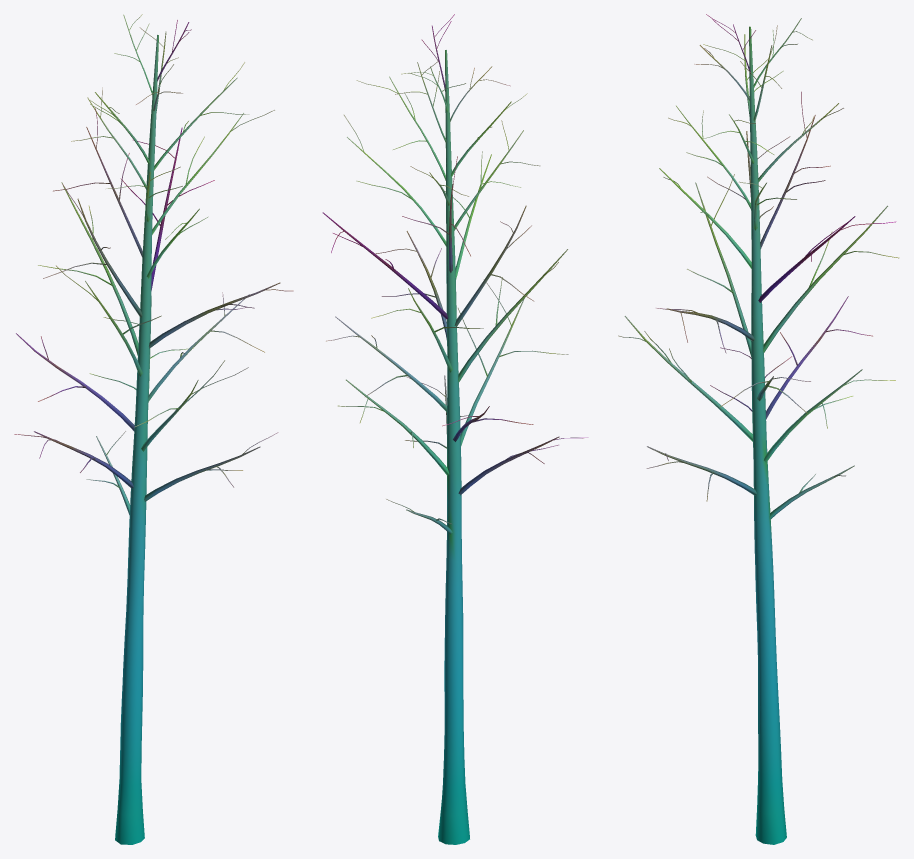
The model's file is birch-grove-a.glb.
The picture shows the model from 3 angles, left to right: view 1: azimuth 30°, elevation 25°; view 2: azimuth 150°, elevation 25°; view 3: azimuth 270°, elevation 25°; orthographic projection. The views are drawn at different scales.
Visible parts, largest first — view 1: bark; view 2: bark; view 3: bark.
Boxes of the visible parts, left/top/right/bottom form: bark: left=14, top=14, right=293, bottom=844; bark: left=322, top=14, right=588, bottom=844; bark: left=618, top=14, right=899, bottom=844.
Bounding box in the file's own units: 4.86 × 15.64 × 4.76.
